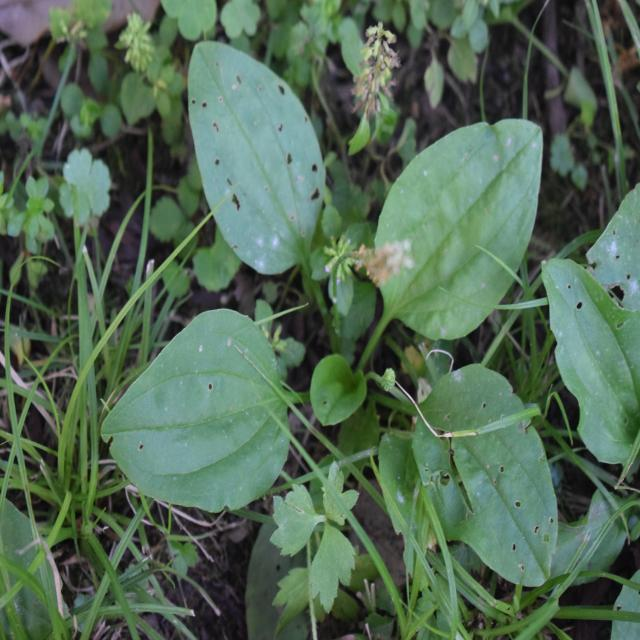plantain: (141, 48, 571, 562)
